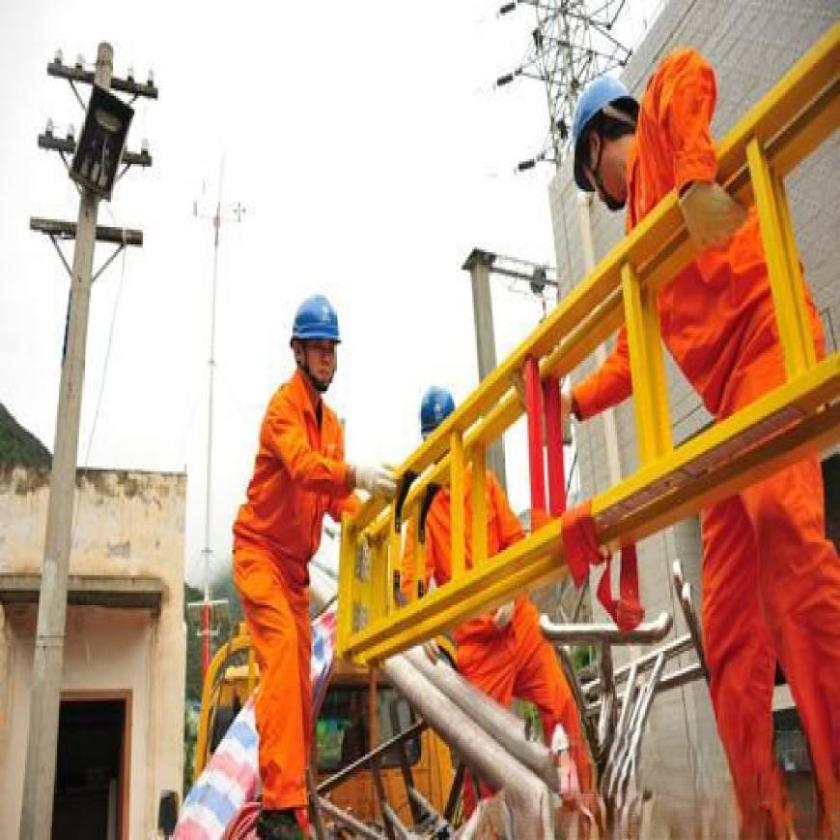Con_casco: (541, 72, 643, 218), (282, 274, 360, 382)
